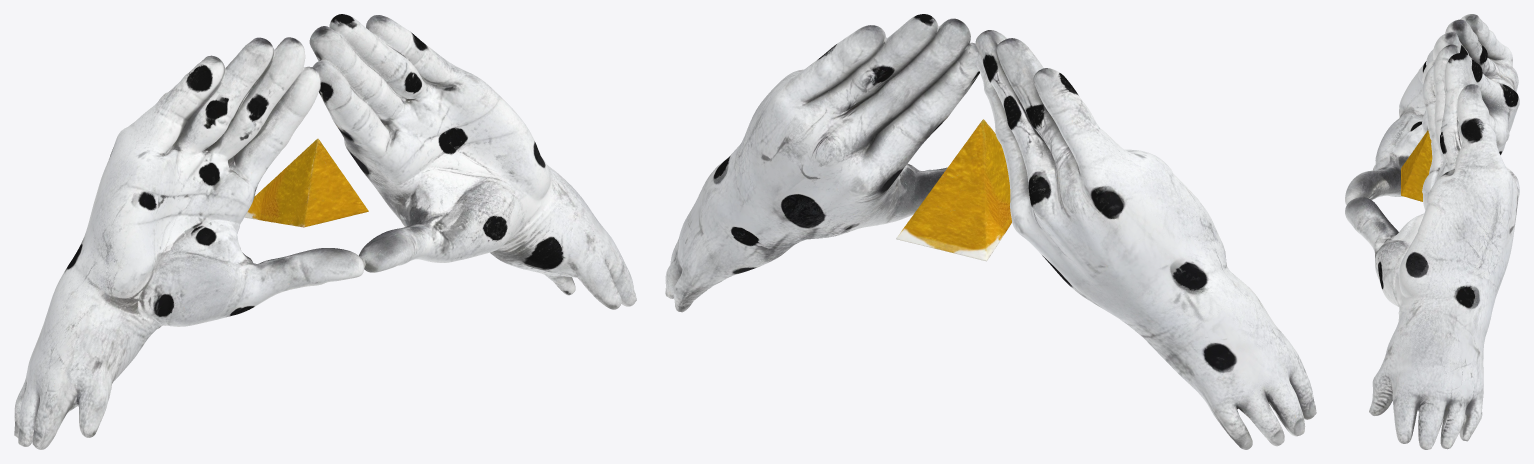
Rendered from hands.glb.
The picture shows the model from 3 angles, left to right: view 1: azimuth 30°, elevation 25°; view 2: azimuth 150°, elevation 25°; view 3: azimuth 270°, elevation 25°; orthographic projection. The views are drawn at different scales.
Size of the model in its own units: 1.9 by 1.01 by 0.551.
1 material, 1 textured.
